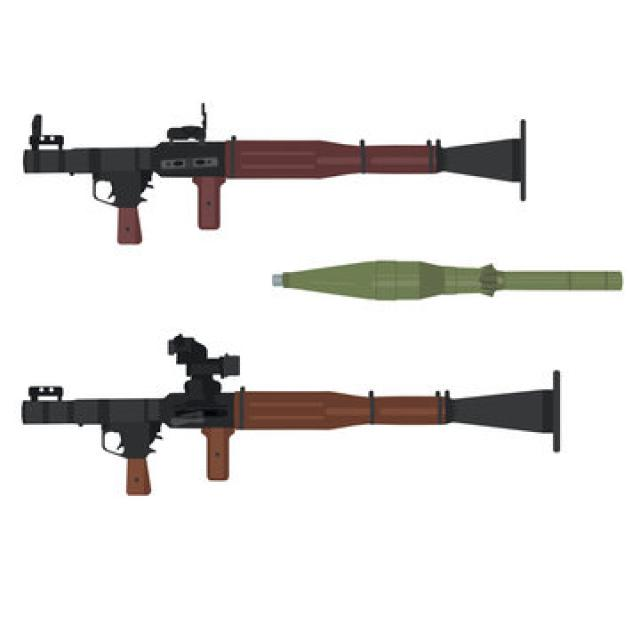Gun: (16, 316, 578, 517), (14, 94, 560, 256)
